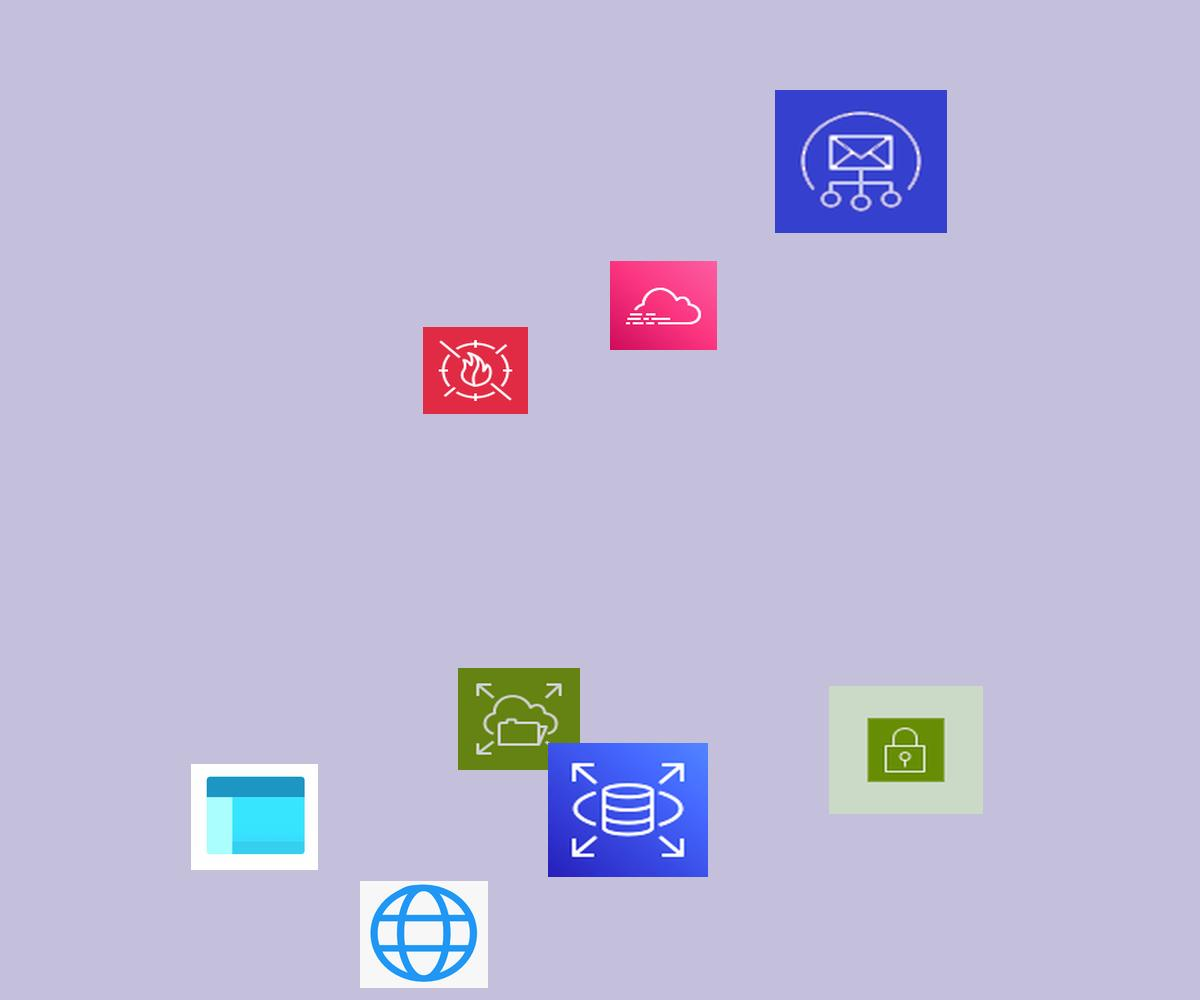AWS-CloudTrail: (610, 261, 717, 350)
AWS-EFS: (458, 668, 580, 770)
AWS-Public-subnet: (829, 686, 983, 814)
AWS-RDS: (548, 743, 708, 877)
AWS-Simple-Email-Service: (775, 90, 947, 233)
AWS-WAF: (423, 327, 528, 414)
Azure_http: (360, 881, 488, 988)
Azure_management-portal: (191, 764, 318, 870)
